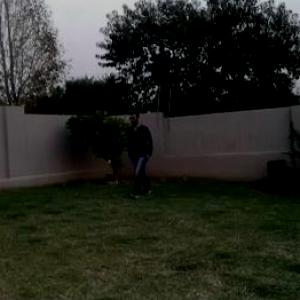follow: (127, 108, 157, 200)
